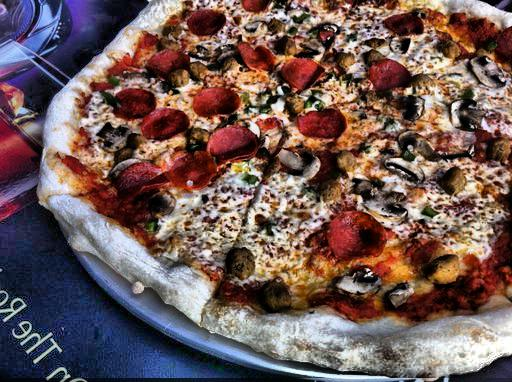pizza: (64, 6, 512, 341)
